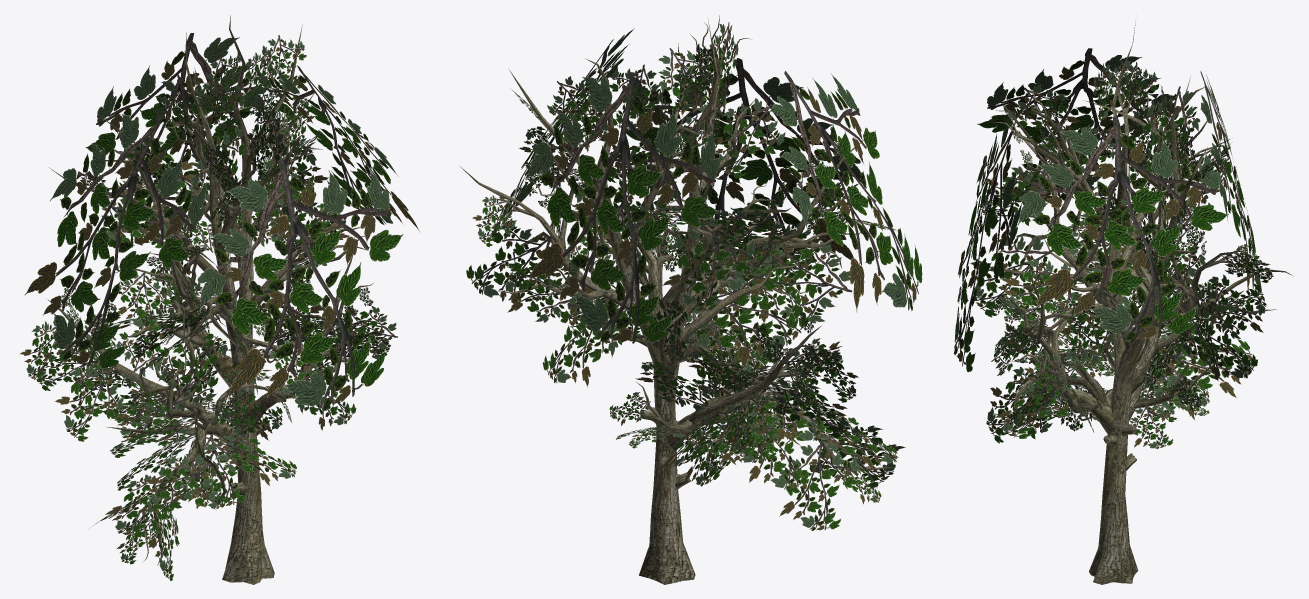
Rendered from Branch.fbx.
3 views of the same model, side by side, from view 1: azimuth 30°, elevation 25°; view 2: azimuth 150°, elevation 25°; view 3: azimuth 270°, elevation 25° (orthographic). The views are drawn at different scales.
Visible parts, largest first — view 1: Branches1, TreePart1; view 2: Branches1, TreePart1; view 3: Branches1, TreePart1.
Part boxes in pixels (<box>): Branches1: <box>19,33,420,580</box>; TreePart1: <box>47,15,387,584</box>; Branches1: <box>466,22,922,530</box>; TreePart1: <box>460,15,895,584</box>; Branches1: <box>953,48,1273,449</box>; TreePart1: <box>978,22,1292,584</box>.
Size of the model in its own units: 9.33 by 13.81 by 7.96.
